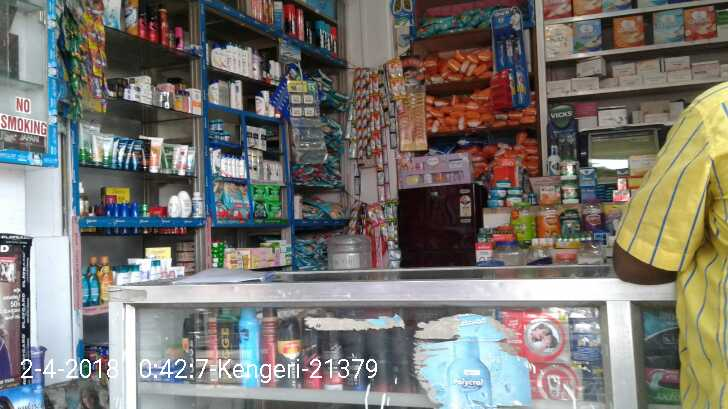vicks: (209, 117, 235, 142)
